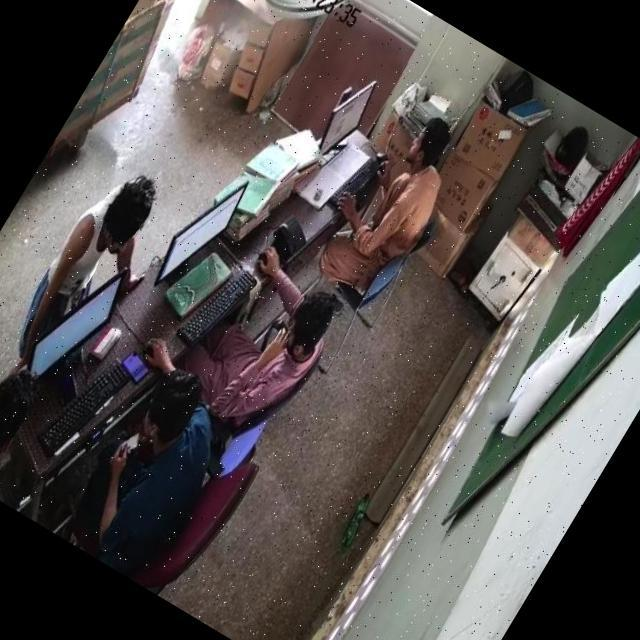person: (64, 353, 252, 570), (175, 253, 348, 448), (20, 165, 164, 357), (326, 118, 462, 296), (0, 361, 59, 501)
